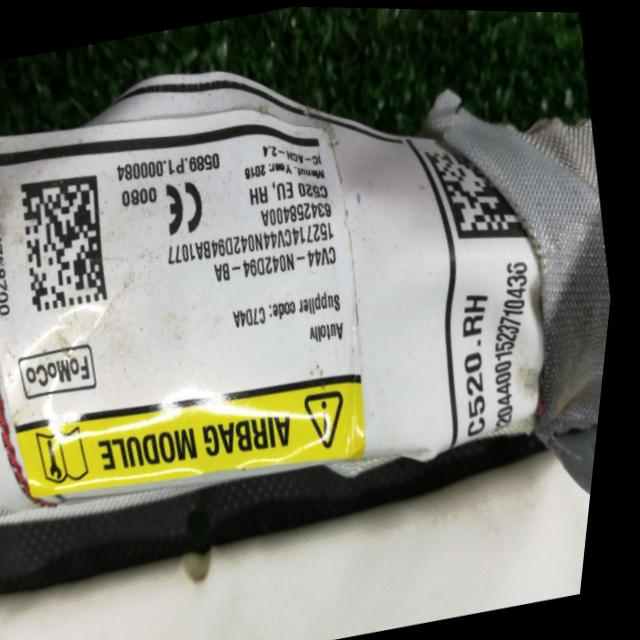datamatrix: (12, 169, 127, 314), (418, 130, 542, 255)
